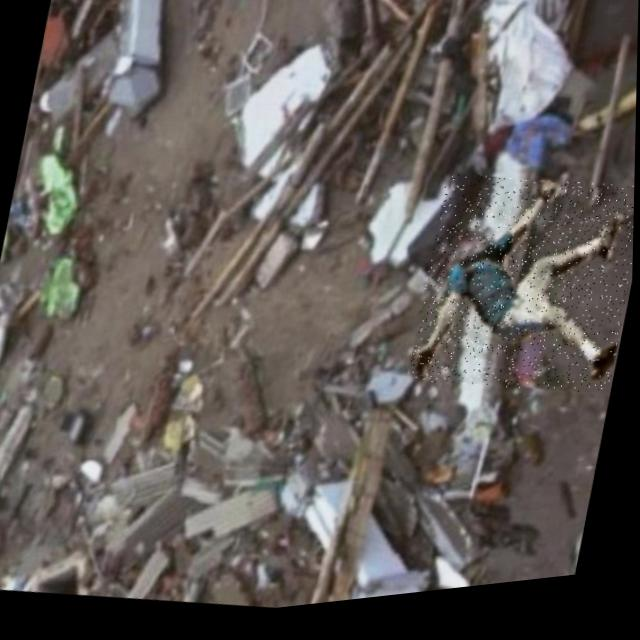Person in Rubble: (408, 166, 636, 424)
